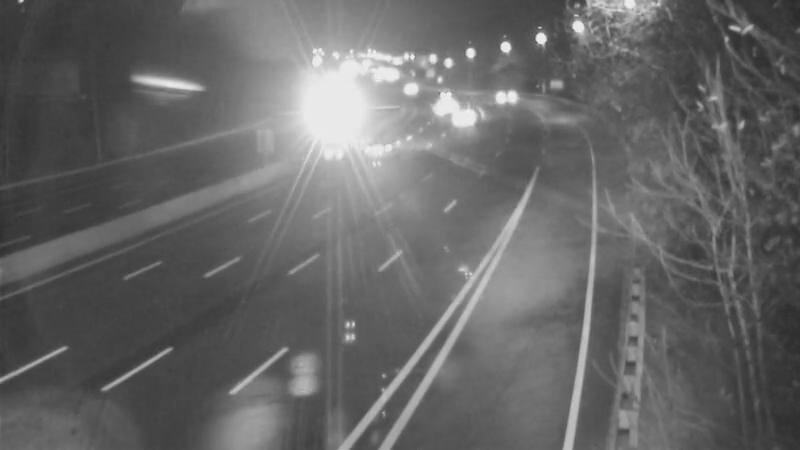vehicle: (390, 64, 440, 114), (420, 68, 470, 118), (476, 69, 526, 119), (419, 82, 469, 132), (440, 95, 490, 145), (364, 124, 414, 174), (295, 97, 345, 147)
